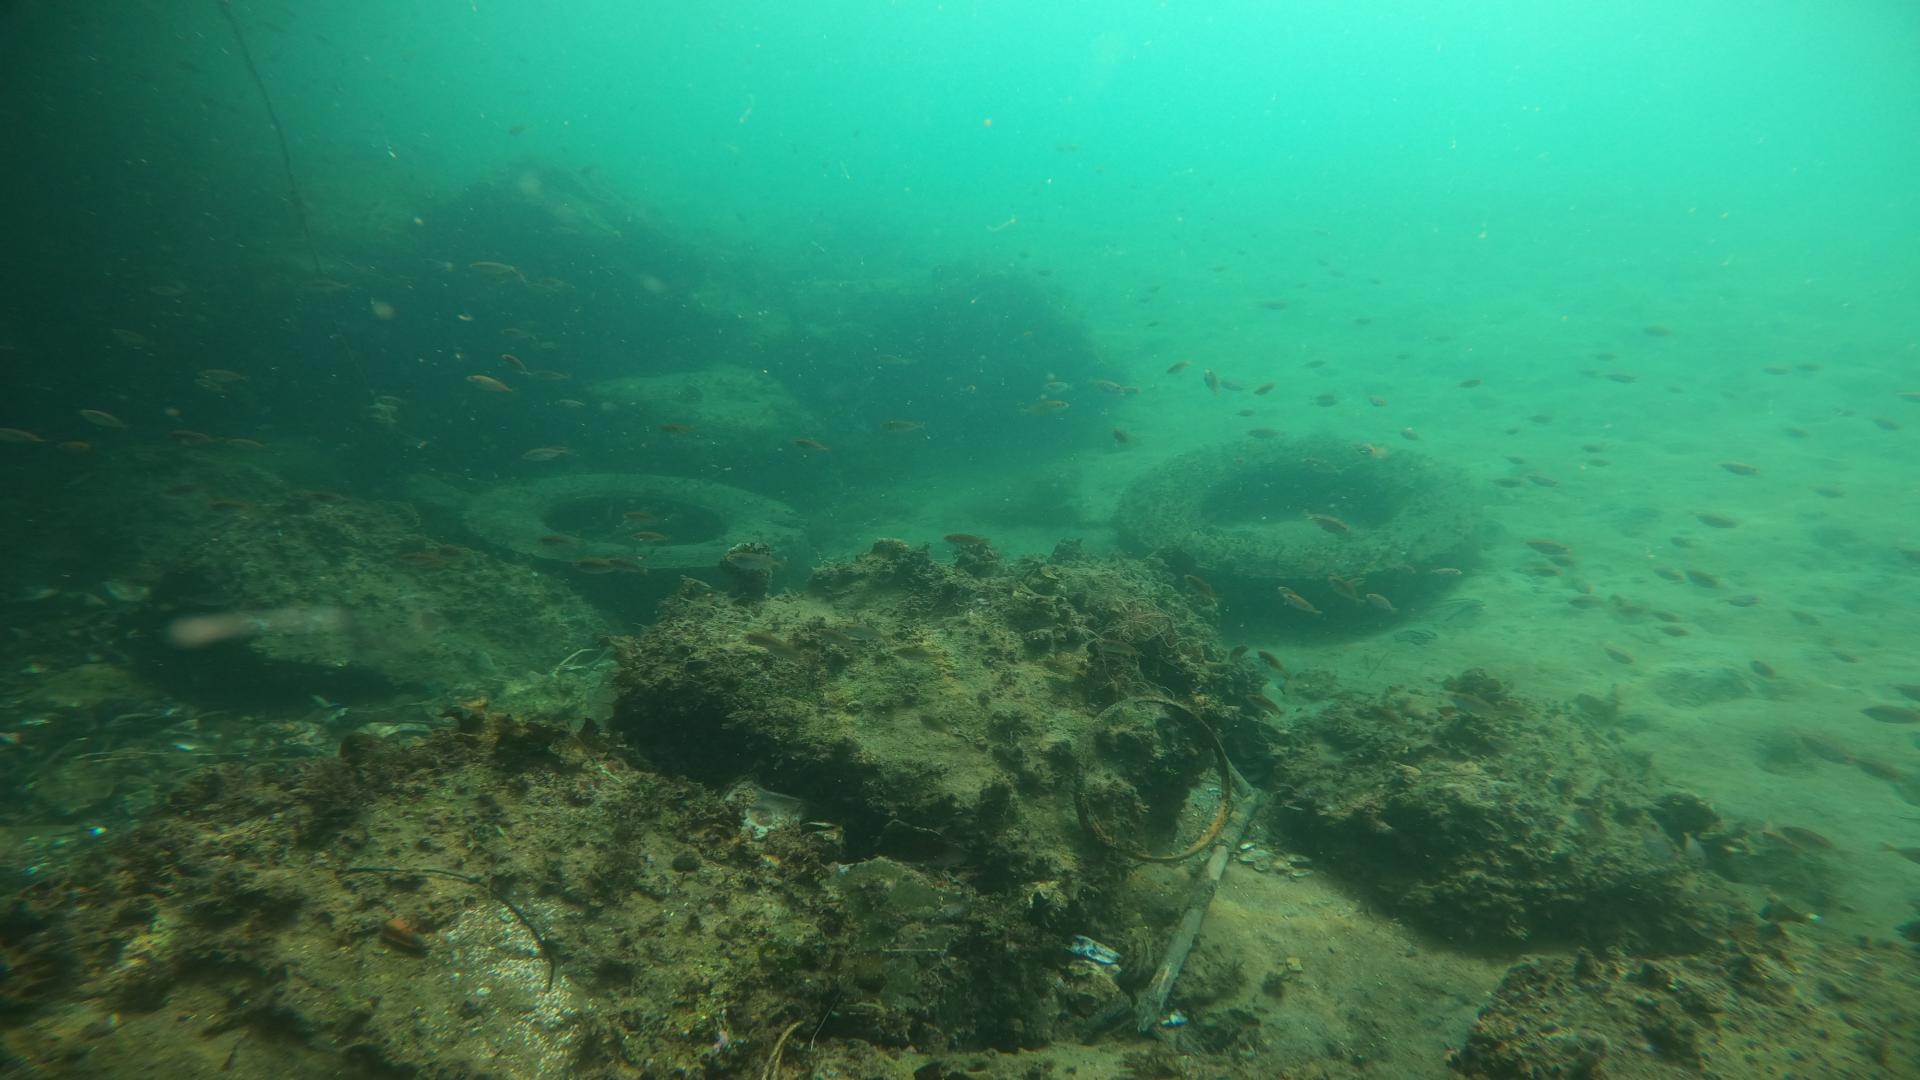tire: (1113, 429, 1481, 622), (454, 469, 811, 622)
